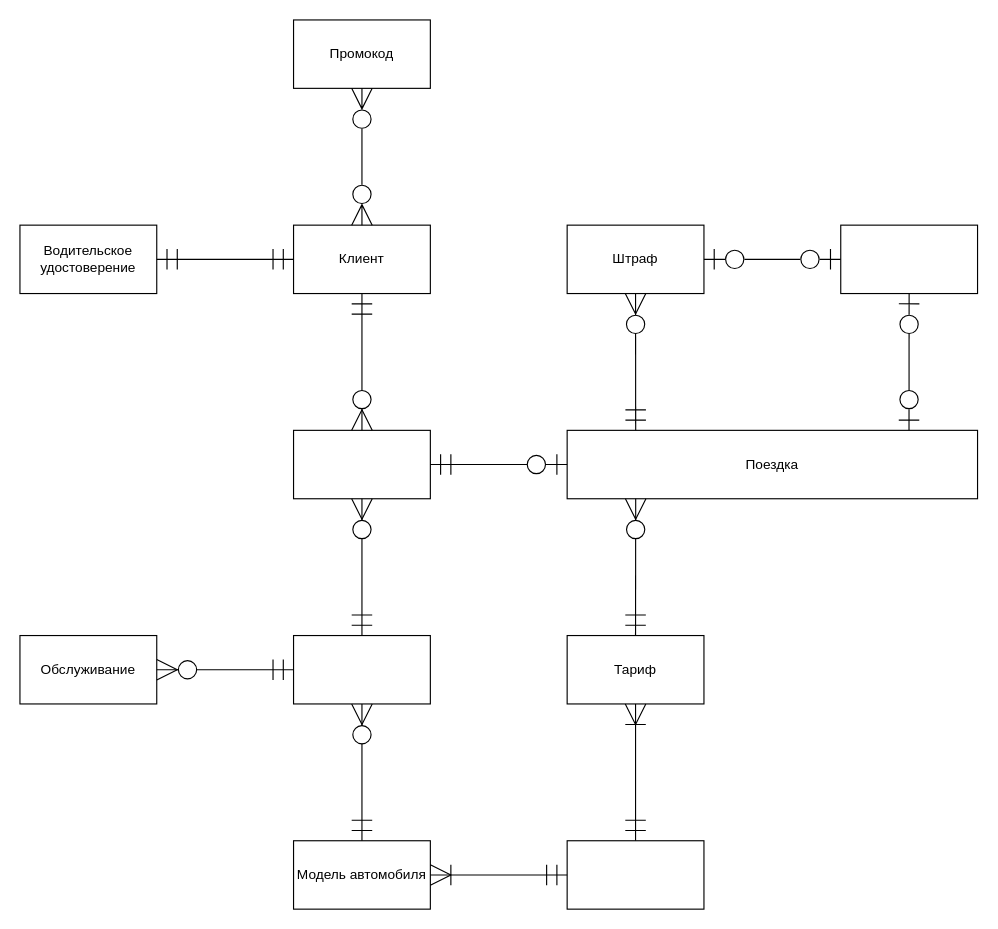
Some shapes in this 998 by 929 pixel diagram are drawn without their labels. The shapes that lost their labels are listed below. From the top down, each one's centre as x and y in pixels, then its label:
At point 909,259: "Платеж".
At point 361,464: "Бронирование".
At point 361,669: "Автомобиль".
At point 635,874: "Класс автомобиля".
